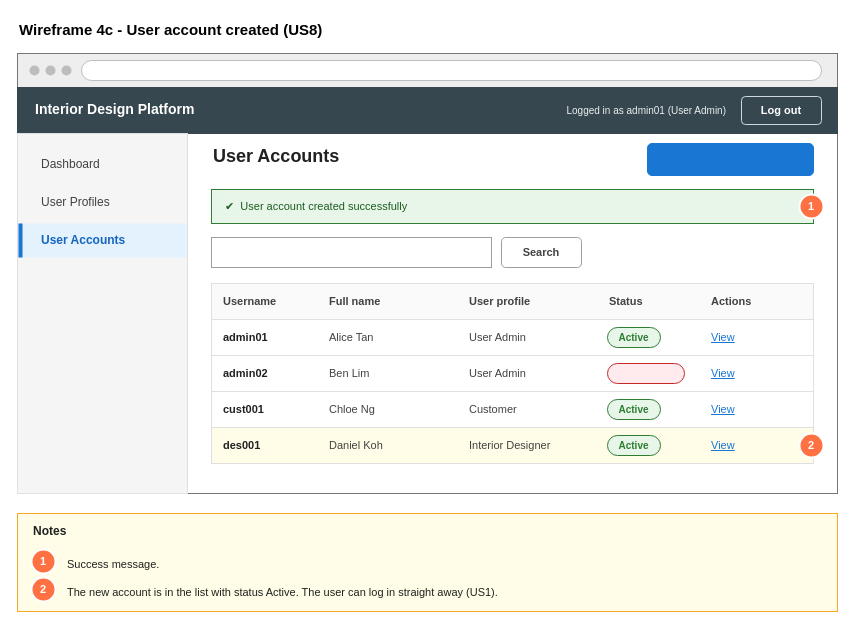
Image size: 855x629. Some labels were removed from this diagram. Here are the shapes that lost their labels. From the top down, the centre of each, then its label:
At [451,70]: "localhost:8080/admin/accounts".
At [730,159]: "+ Create user account".
At [351,252]: "Search user accounts...".
At [645,373]: "Suspended".
